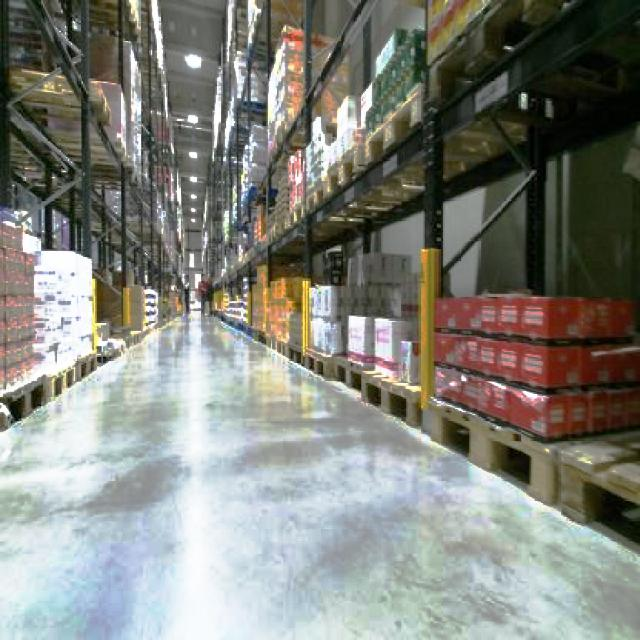ground: (0, 302, 638, 638)
pallet: (205, 0, 638, 635), (429, 292, 638, 442), (0, 195, 97, 432), (554, 414, 638, 634), (0, 200, 38, 402)
